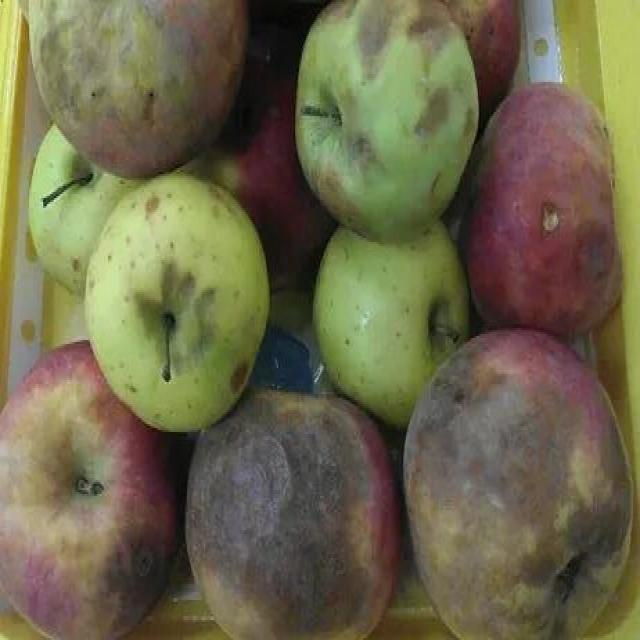Rotten: (408, 341, 640, 633), (194, 398, 411, 640), (17, 342, 175, 638), (464, 95, 624, 345), (288, 5, 467, 227), (94, 180, 258, 415)
